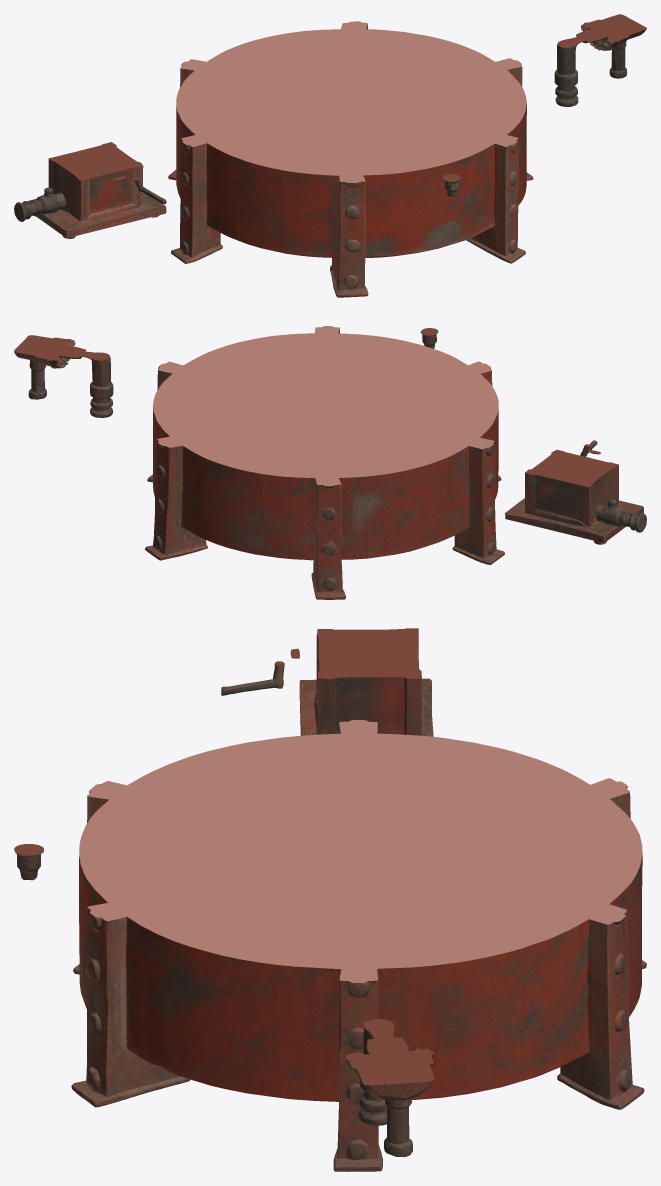
Rendered from cilindro_base_bassa.glb.
The picture shows the model from 3 angles, top to bottom: view 1: azimuth 30°, elevation 25°; view 2: azimuth 150°, elevation 25°; view 3: azimuth 270°, elevation 25°; orthographic projection. The views are drawn at different scales.
Parts seen in each view (by area): view 1: cilindro_base_bassa; view 2: cilindro_base_bassa; view 3: cilindro_base_bassa.
Part boxes in pixels (x1,y1,x2,y2): cilindro_base_bassa: [14, 14, 646, 297]; cilindro_base_bassa: [14, 326, 646, 599]; cilindro_base_bassa: [14, 628, 646, 1171].
Size of the model in its own units: 2.29 by 0.4 by 1.25.
2 materials, 1 textured.
